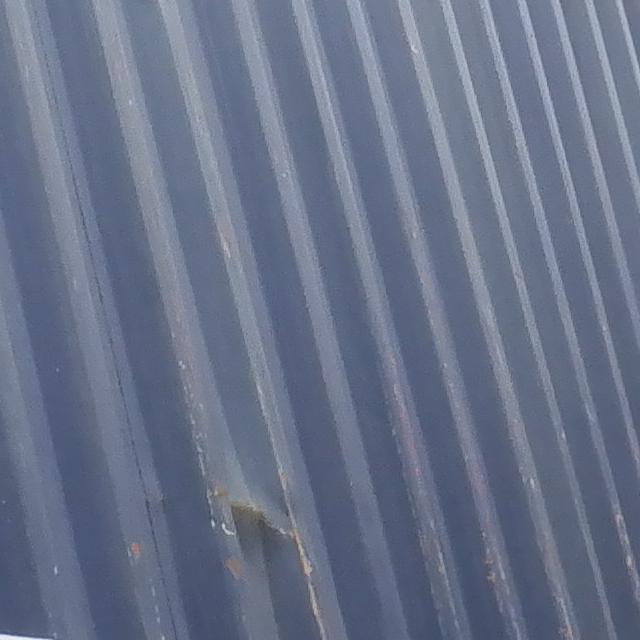dent: (198, 464, 308, 584)
